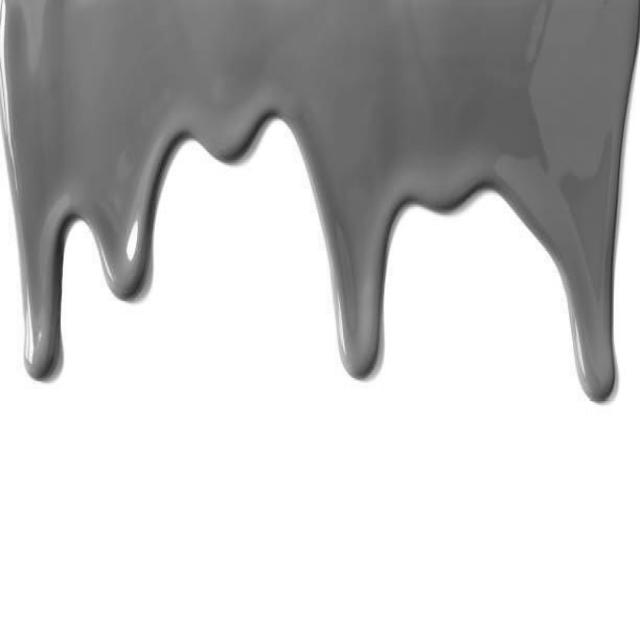paint drips: (0, 51, 640, 448)
